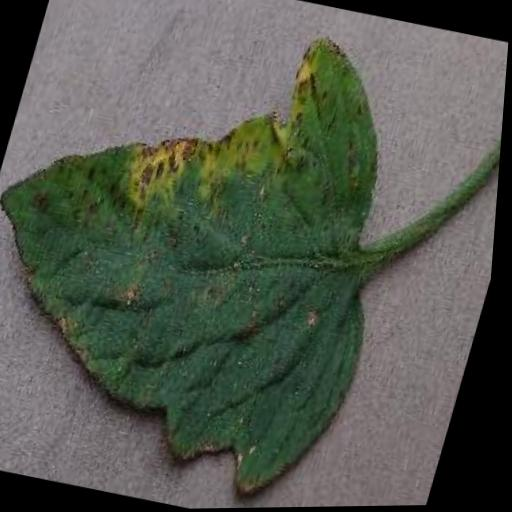Bacterial Spot: (0, 0, 455, 512)
